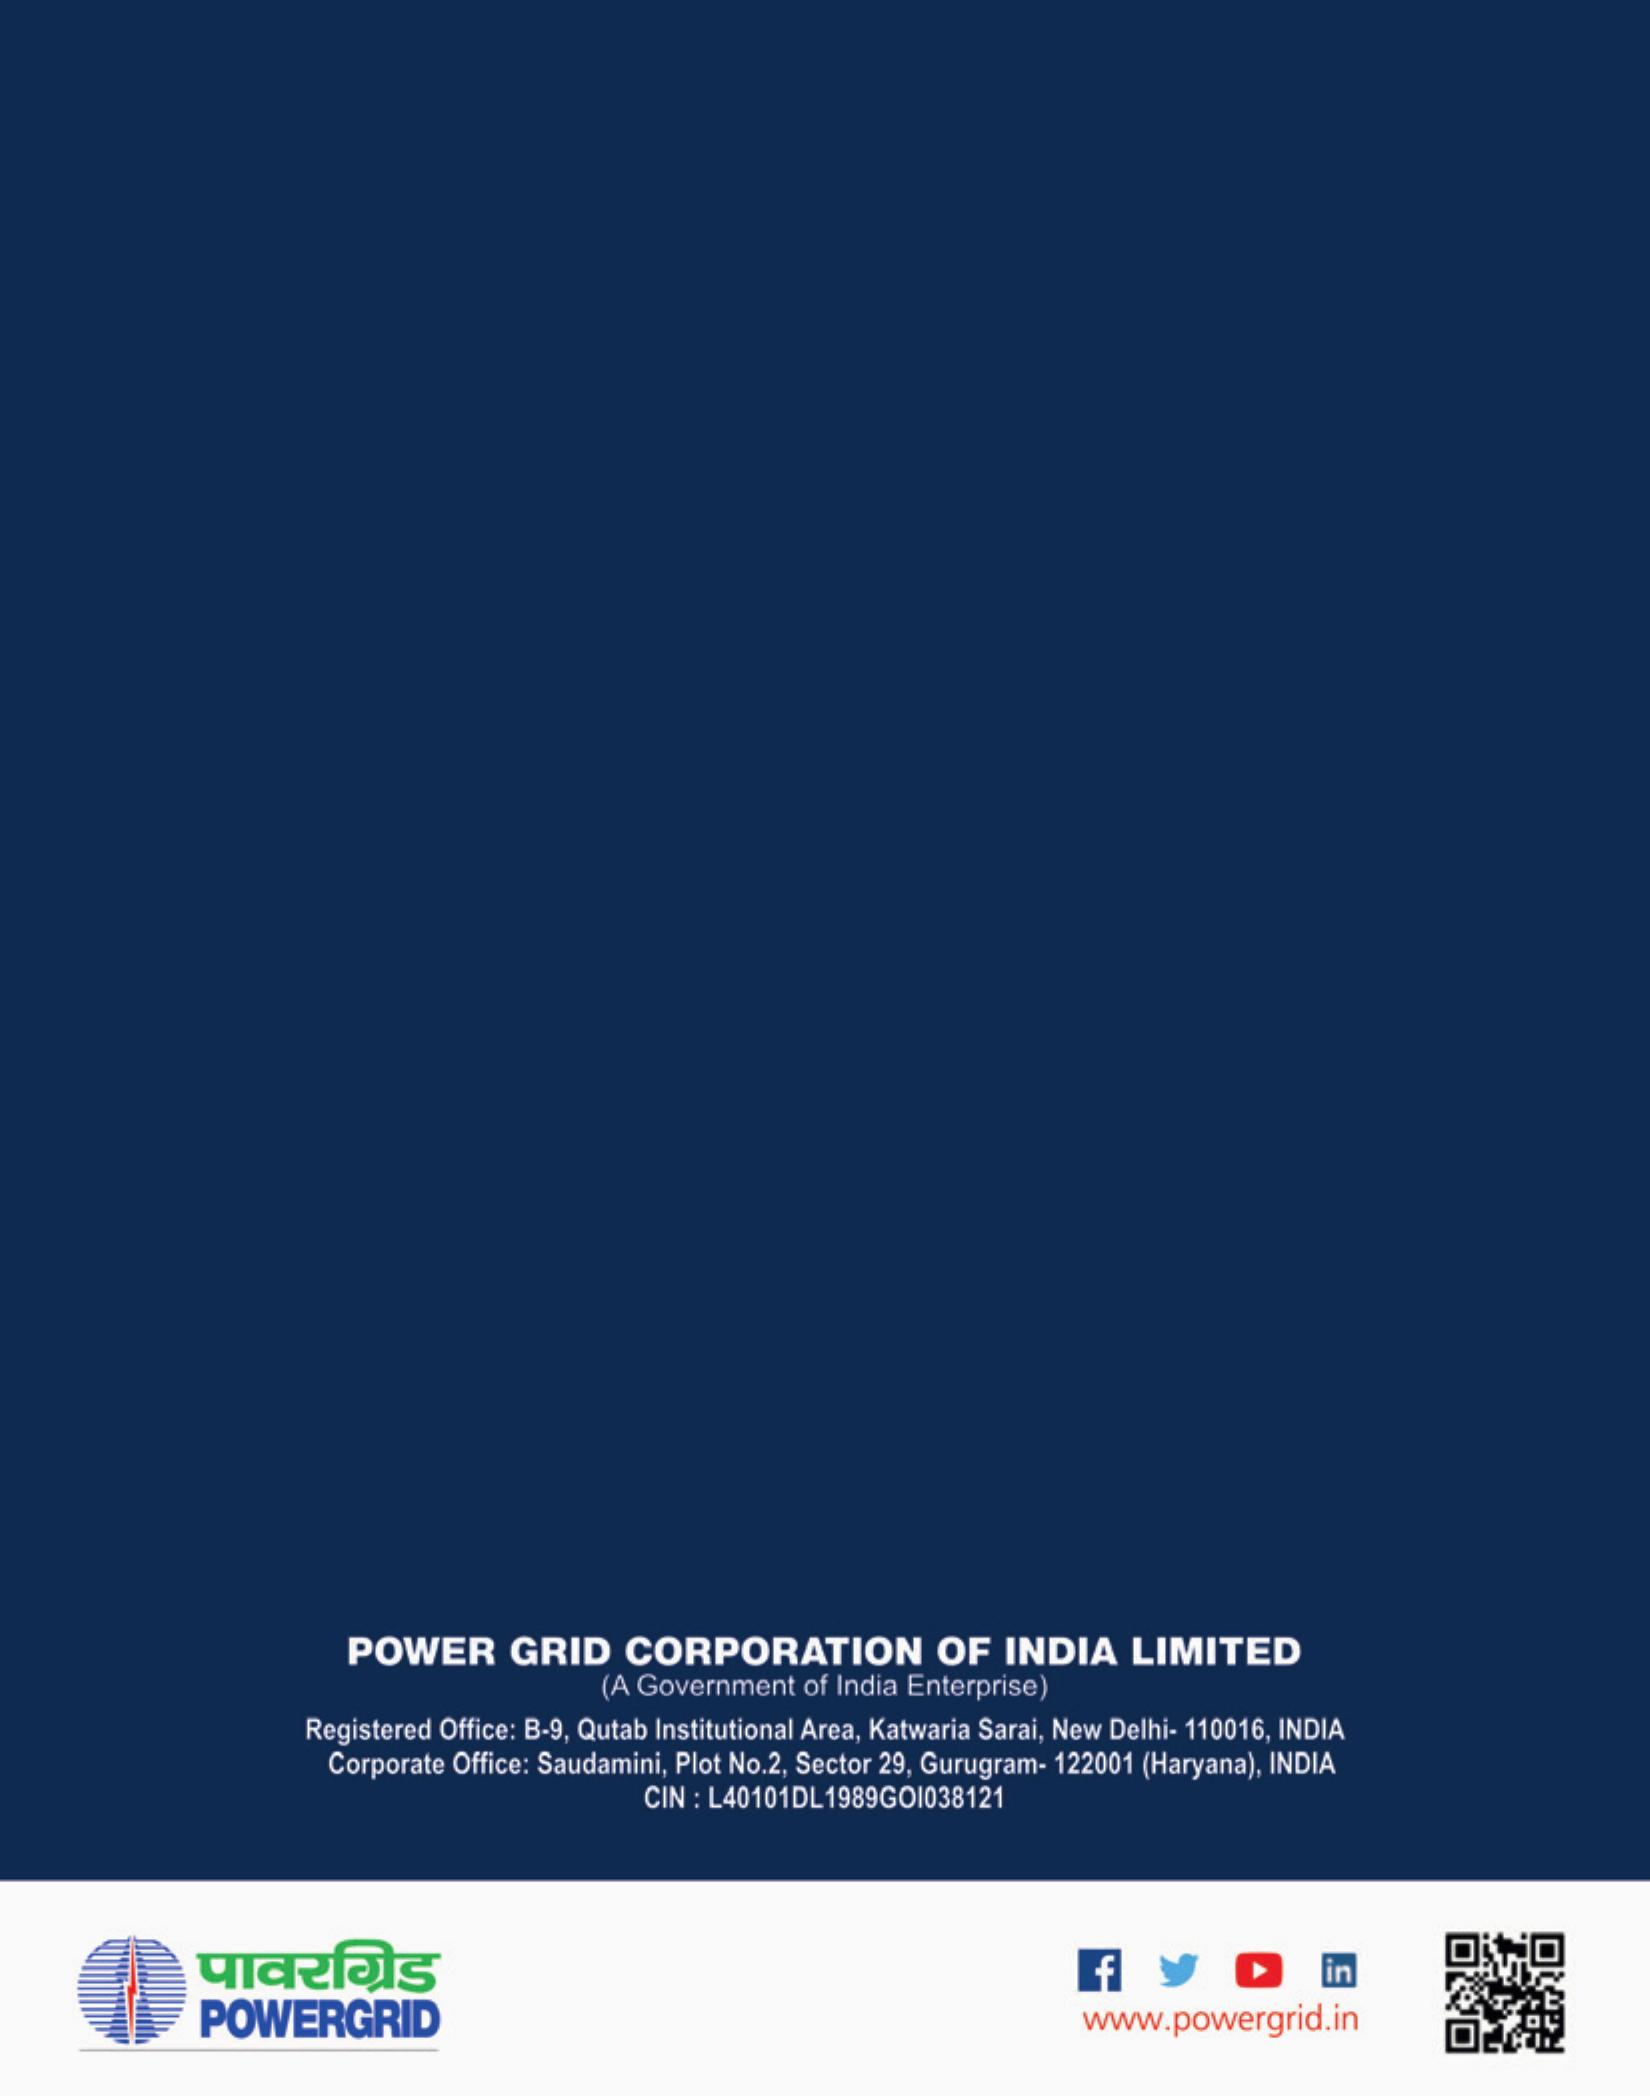Footer: (0, 1878, 1650, 2096)
